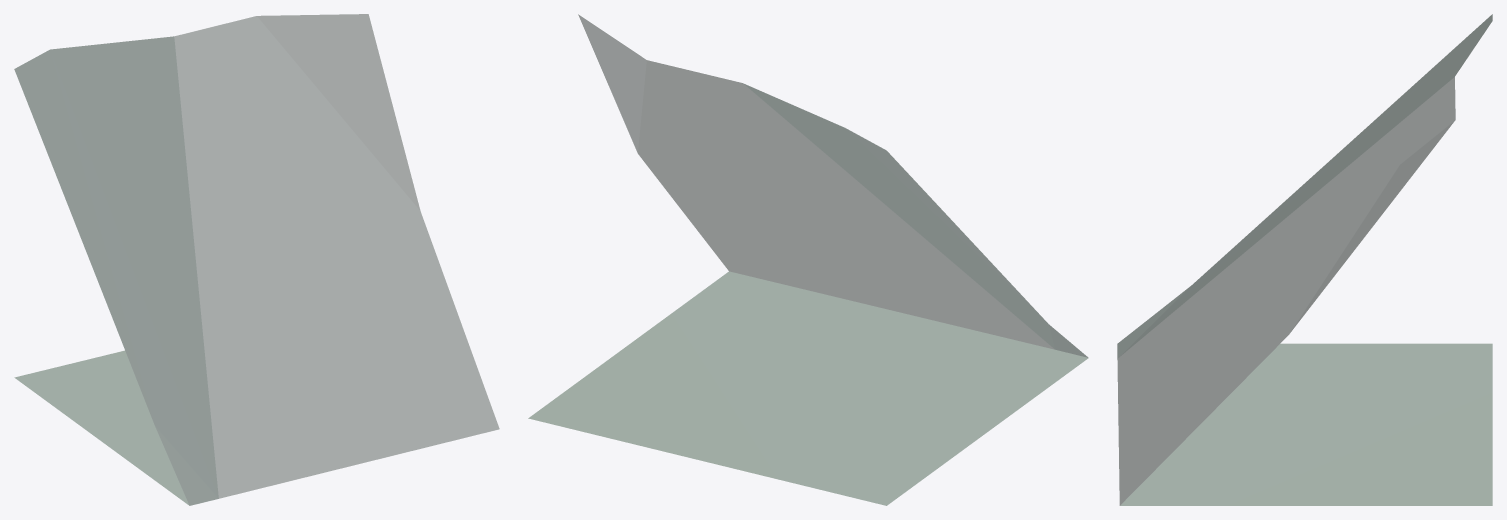
3 views of the same model, side by side, from view 1: azimuth 30°, elevation 25°; view 2: azimuth 150°, elevation 25°; view 3: azimuth 270°, elevation 25° (orthographic). The views are drawn at different scales.
Bounding box in the file's own units: 0.983 × 0.9637 × 0.9599.
1 material, 1 textured.
